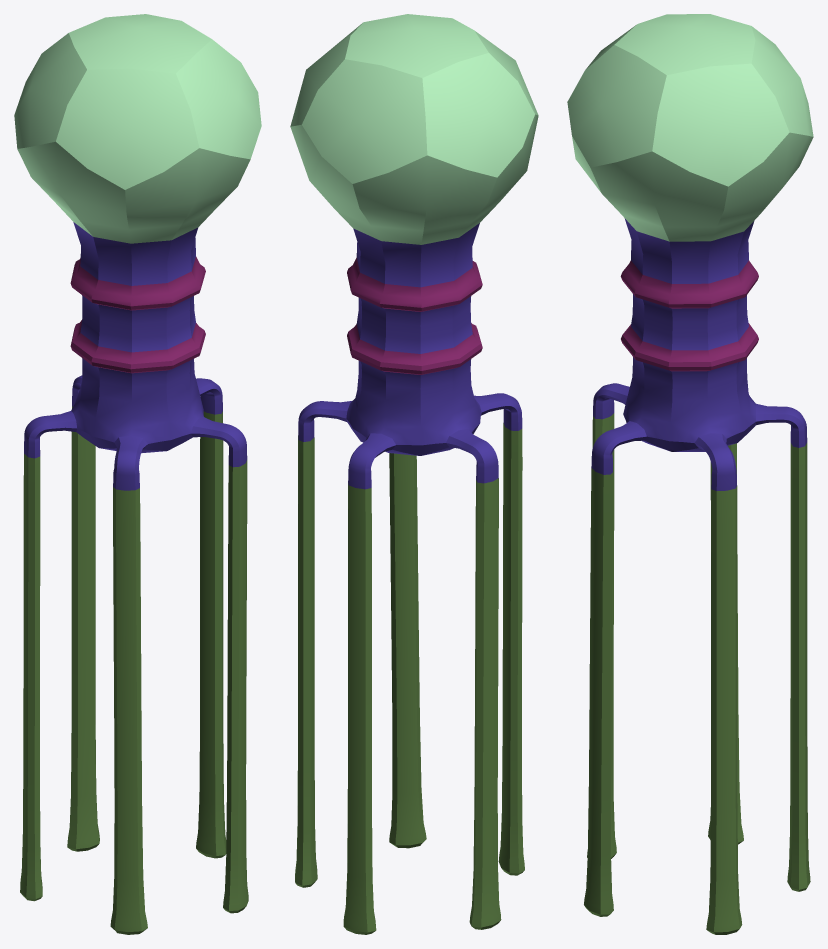
The model's file is ColeraModel.fbx.
3 views of the same model, side by side, from view 1: azimuth 30°, elevation 25°; view 2: azimuth 150°, elevation 25°; view 3: azimuth 270°, elevation 25° (orthographic).
Visible parts, largest first — view 1: Colera; view 2: Colera; view 3: Colera.
Part boxes in pixels (x1,y1,x2,y2): Colera: (14,14,261,934); Colera: (290,14,538,934); Colera: (567,14,813,934).
Size of the model in its own units: 179 by 686 by 178.
Materials: 1 (1 with a texture image).
